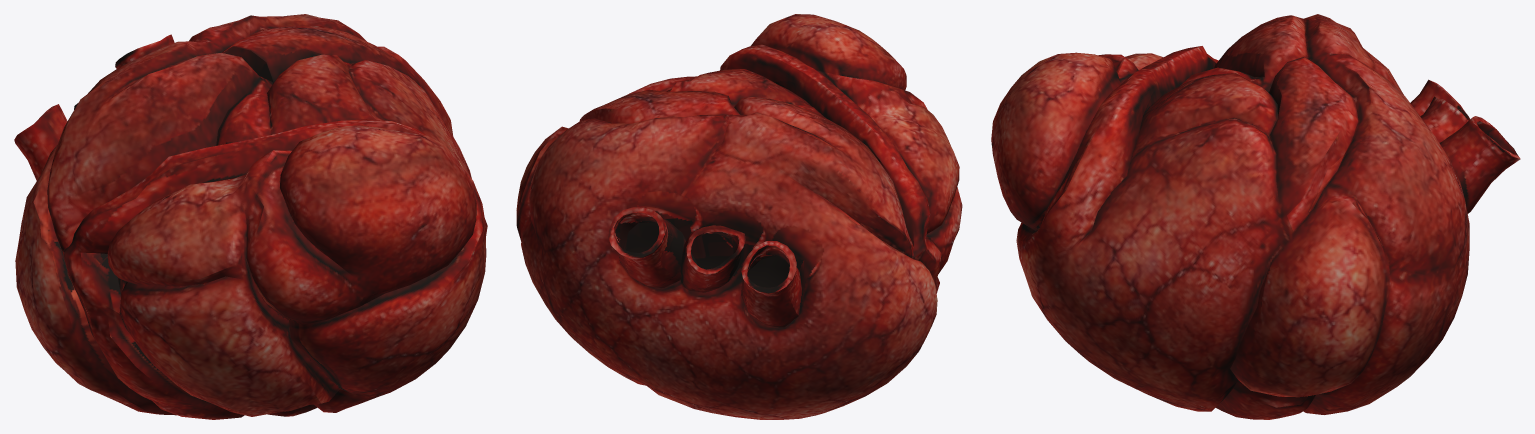
The model's file is item_heart.glb.
3 views of the same model, side by side, from view 1: azimuth 30°, elevation 25°; view 2: azimuth 150°, elevation 25°; view 3: azimuth 270°, elevation 25° (orthographic). The views are drawn at different scales.
Parts seen in each view (by area): view 1: organic_heart; view 2: organic_heart; view 3: organic_heart.
Boxes of the visible parts, <box> form: organic_heart: <box>14,14,487,419</box>; organic_heart: <box>516,14,962,419</box>; organic_heart: <box>991,14,1520,419</box>.
Bounding box in the file's own units: 0.9338 × 0.7294 × 1.
1 material, 1 textured.
